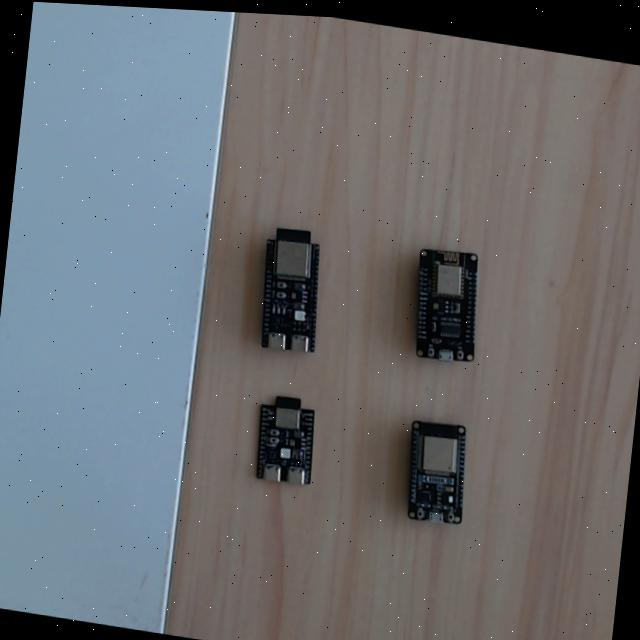ESP32-DevKit: (405, 419, 468, 526)
ESP32C3-DevKit: (251, 396, 317, 487)
ESP32S3-Devkit: (260, 225, 321, 353)
ESP8266-NodeMCU: (413, 246, 480, 364)
